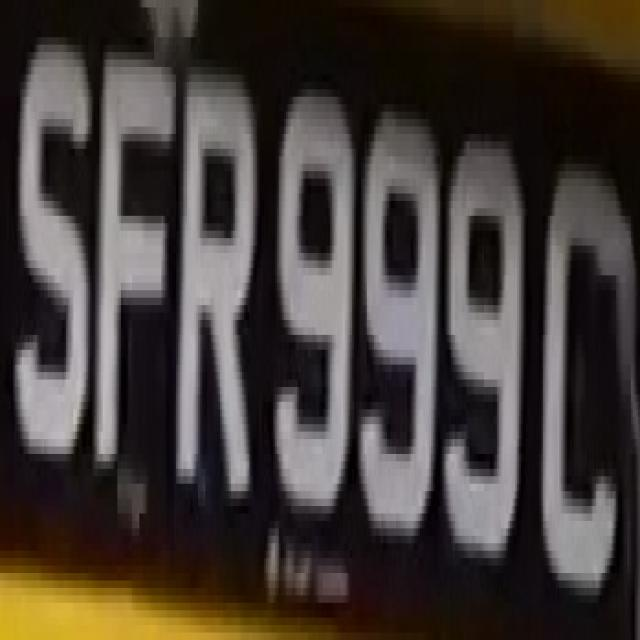9: (361, 82, 440, 565), (446, 104, 528, 558), (275, 90, 358, 528)
C: (541, 127, 620, 610)
F: (97, 30, 171, 491)
R: (176, 52, 257, 521)
S: (17, 30, 92, 476)
